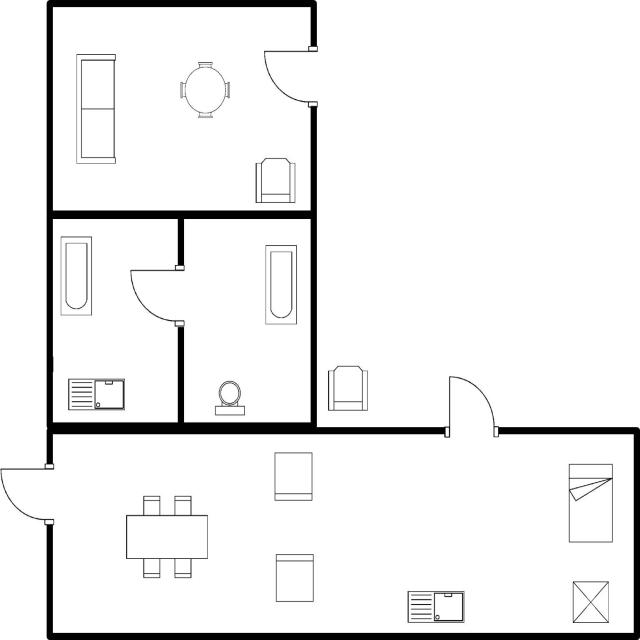armchair: (251, 152, 300, 207), (324, 360, 371, 414)
bed: (563, 458, 616, 548)
coffee_table: (566, 577, 612, 626)
dining_table: (120, 491, 214, 582)
large_sink: (208, 377, 249, 418)
large_sofa: (72, 48, 120, 170)
round_table: (175, 57, 234, 125)
sink: (402, 585, 468, 627), (63, 373, 128, 415)
small_sofa: (270, 444, 316, 506), (271, 548, 317, 606)
tub: (260, 241, 300, 329), (56, 233, 96, 319)
